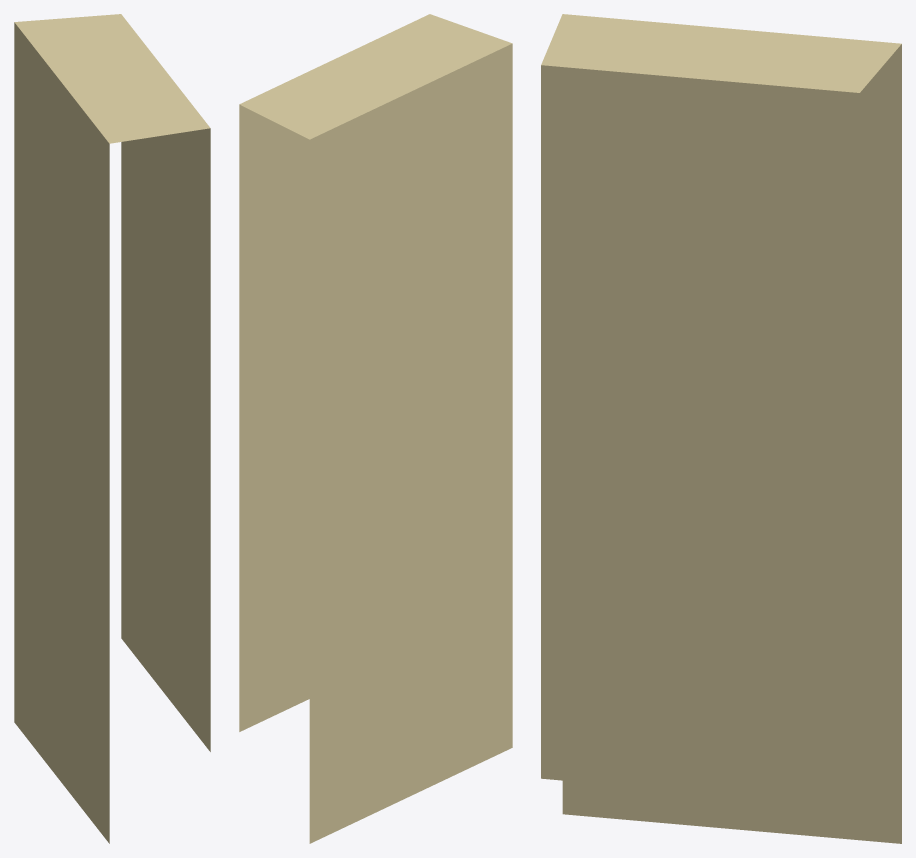
Rendered from wall12.fbx.
3 views of the same model, side by side, from view 1: azimuth 30°, elevation 25°; view 2: azimuth 150°, elevation 25°; view 3: azimuth 270°, elevation 25° (orthographic). The views are drawn at different scales.
Visible parts, largest first — view 1: duvar.025; view 2: duvar.025; view 3: duvar.025.
Part boxes in pixels (left/top/right/bottom): duvar.025: left=14, top=14, right=210, bottom=843; duvar.025: left=239, top=14, right=512, bottom=843; duvar.025: left=541, top=14, right=901, bottom=843.
Size of the model in its own units: 9.53 by 44.99 by 18.39.
